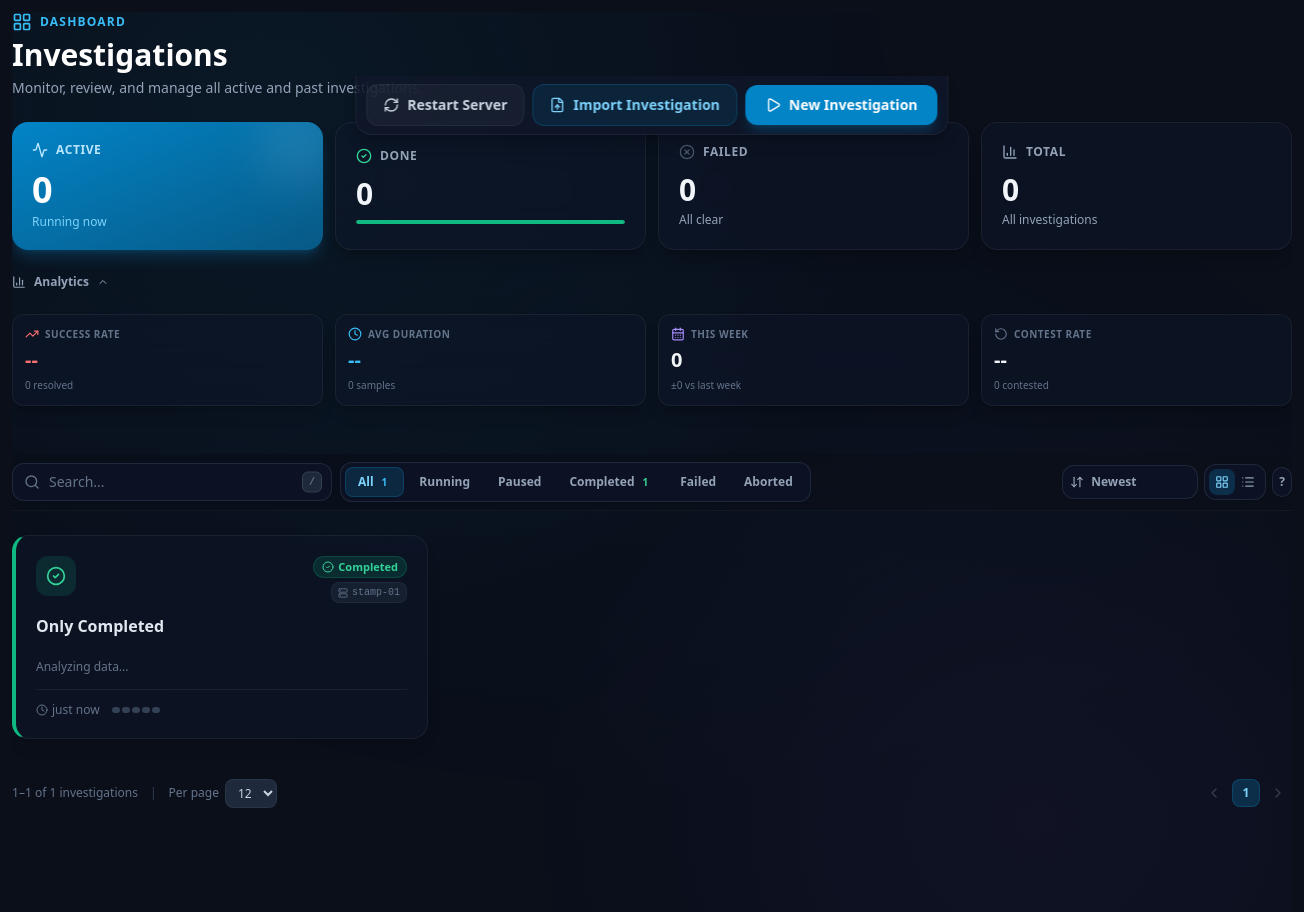
Test: Dashboard › Empty State › shows filtered empty state when filter returns no results
Expected: the heading "Only Completed" is shown, [36,615,164,637]
// Click on Running filter using helper (finds "RunRunning" pattern)
Click the button "Running".
click(445, 482)  # box [406,466,483,496]
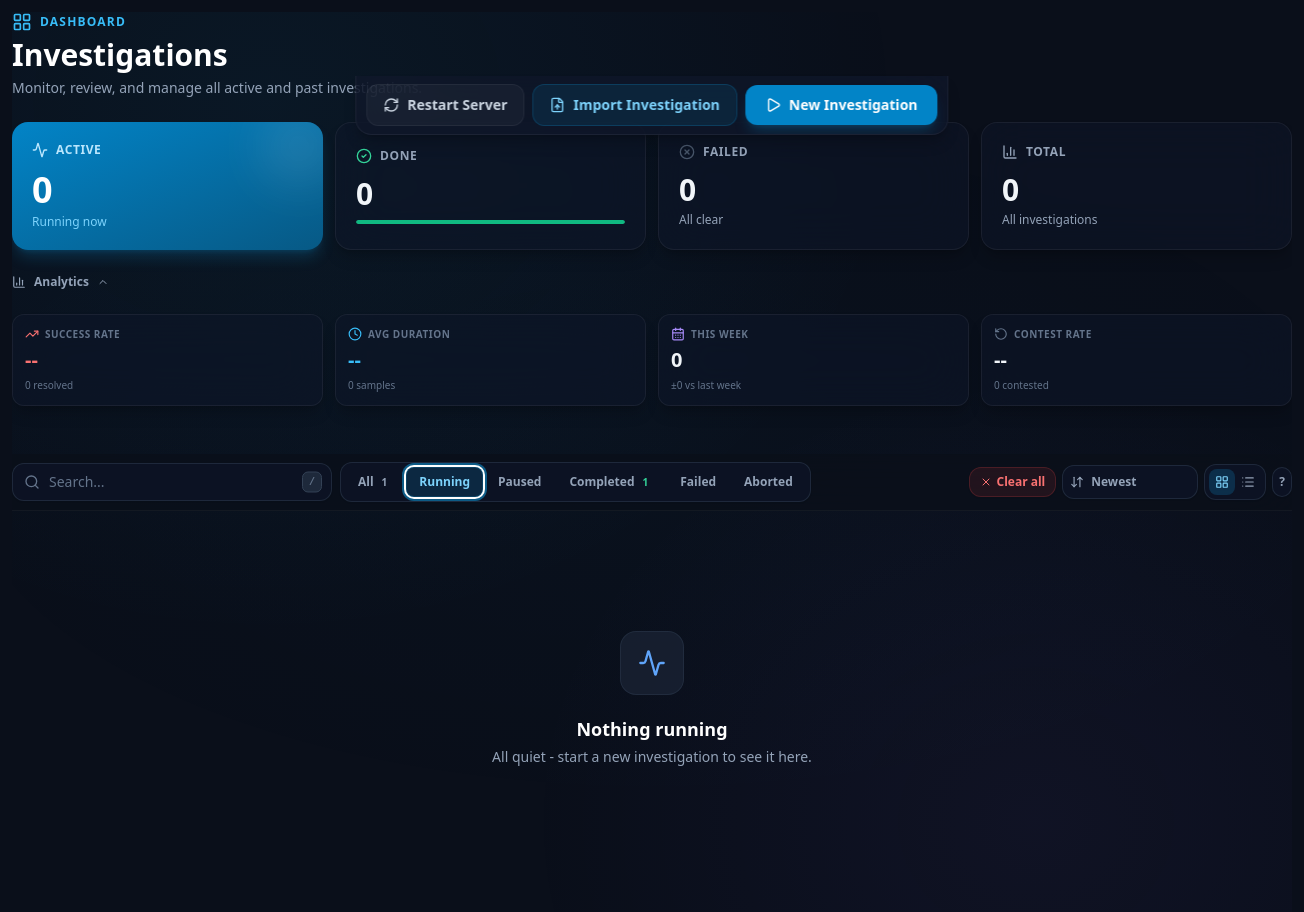
Expected: the heading "Nothing running" is shown, [576,716,728,740]
